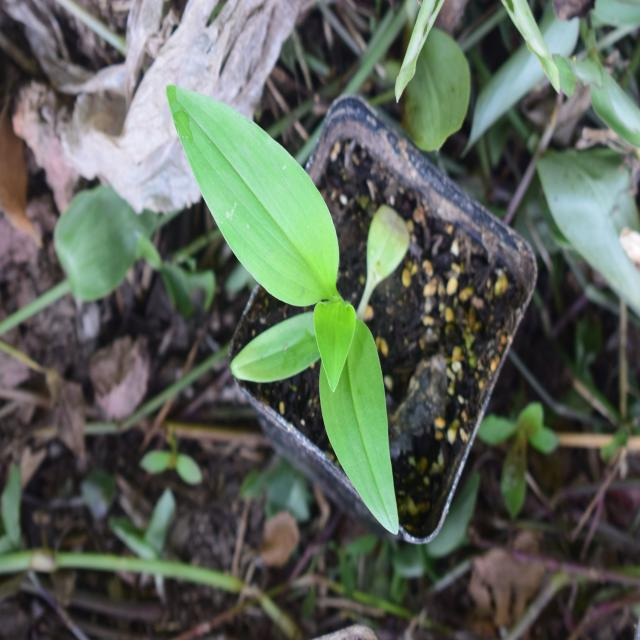Common Dayflower: (166, 85, 425, 532)
